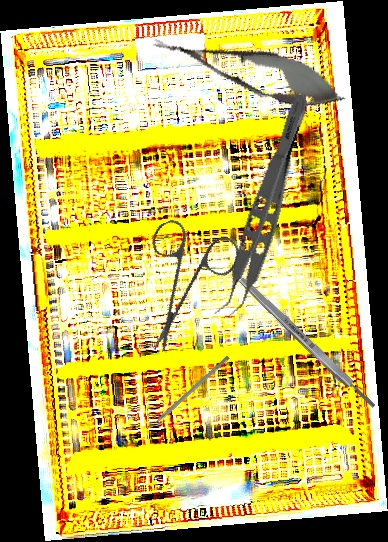Chopper: (140, 351, 231, 433)
Iris Scissors: (107, 199, 265, 355)
Micro Scissor: (144, 17, 353, 122)
Scalpel Handle: (237, 275, 378, 411)
Tissue Forceps: (211, 87, 313, 324)
